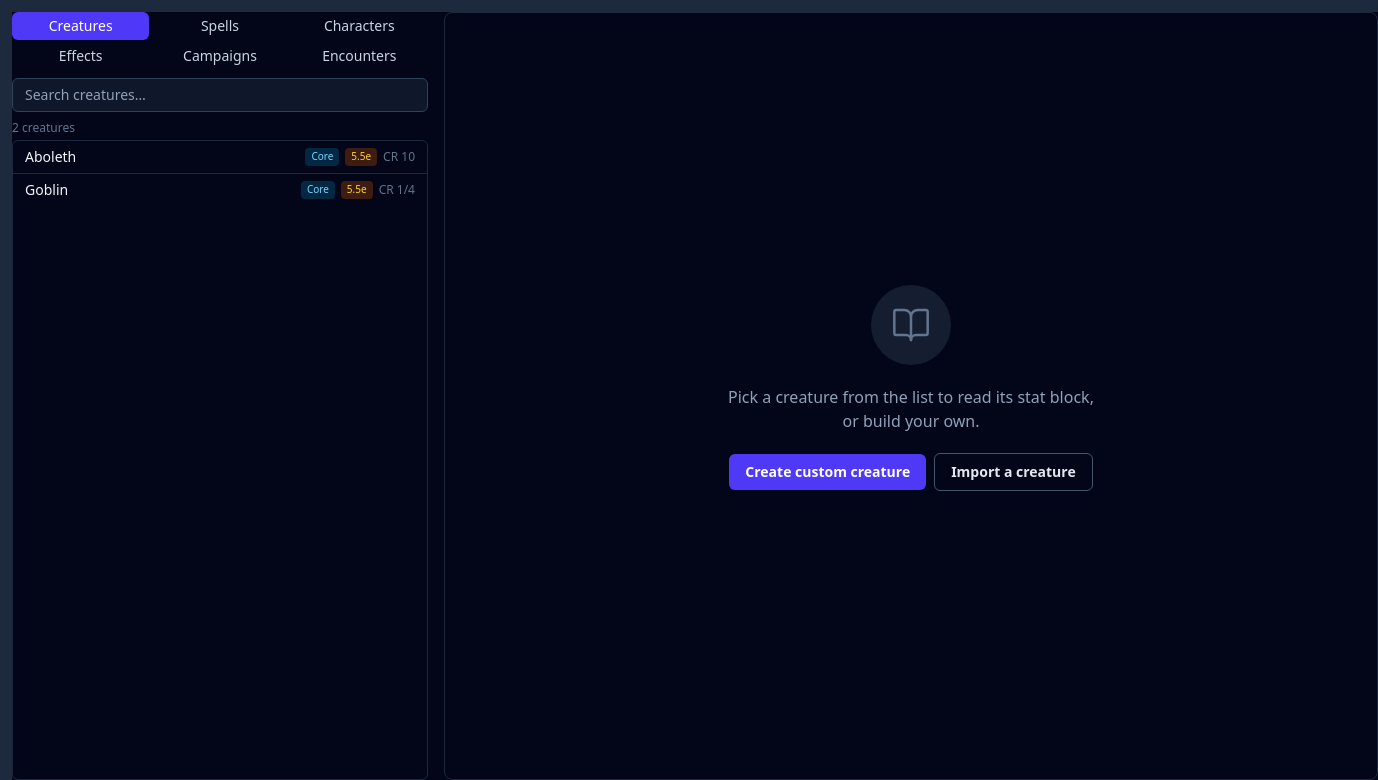
Compendium › lists creatures and filters by search
Expected: the text "Aboleth" is shown, [25, 147, 76, 167]
Expected: the text "Goblin" is shown, [25, 180, 68, 200]
Type "gob" into the search field labelled "Search creatures".
click(220, 95); type("gob")  # box [12, 78, 428, 112]
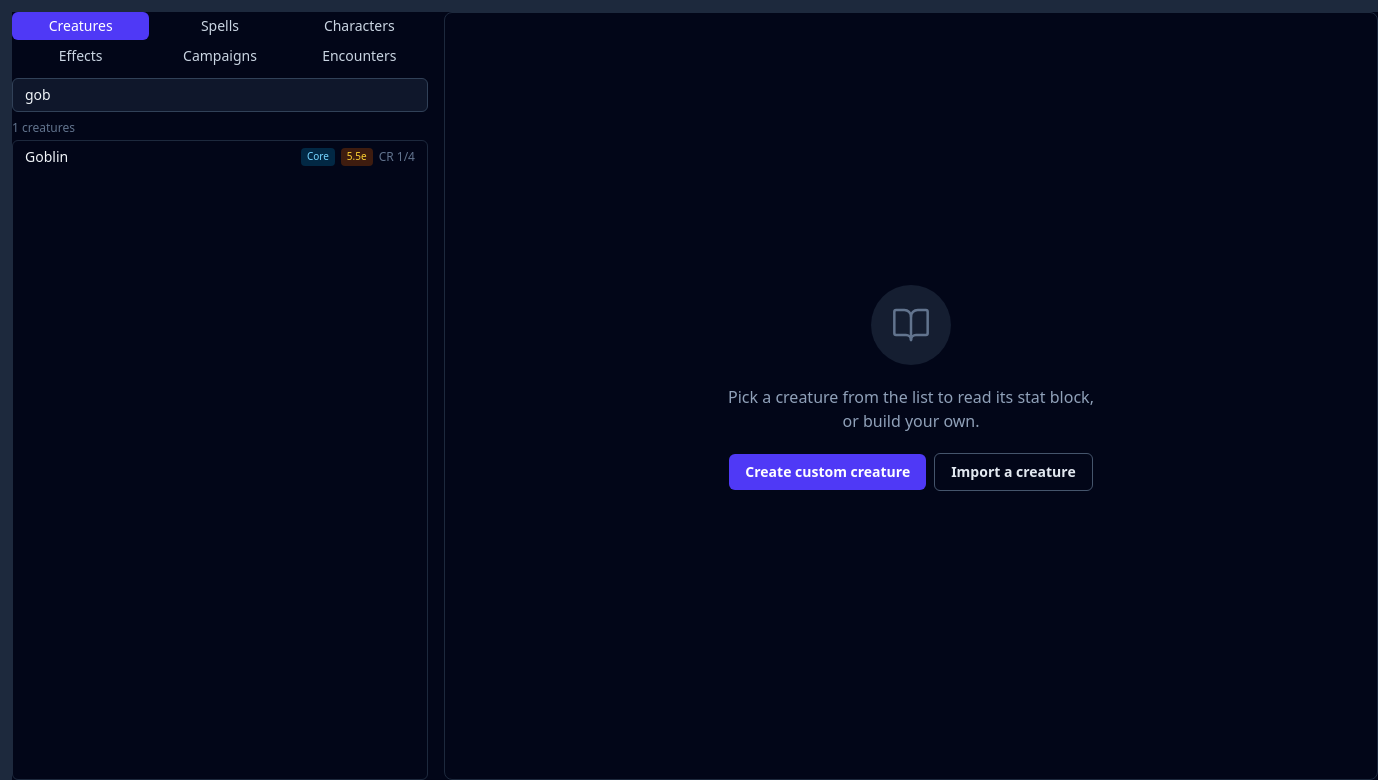
Expected: the text "Goblin" is shown, [25, 147, 68, 167]
Result: the button "Aboleth" is gone
